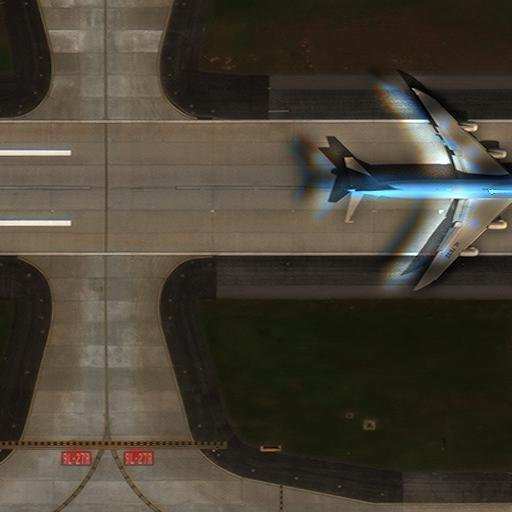Large Civil Transport: (346, 92, 512, 281)
